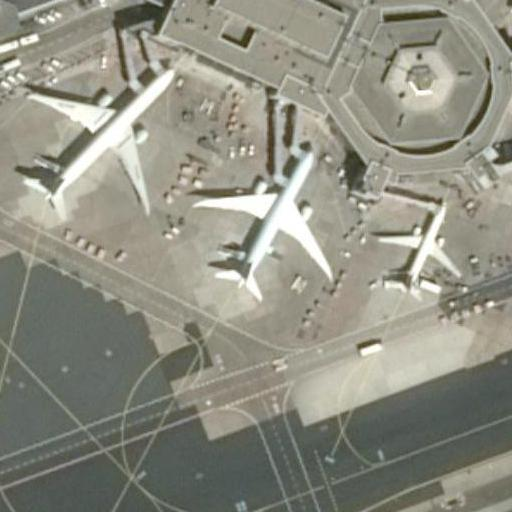Aircraft: (10, 44, 186, 223), (191, 137, 340, 304), (369, 191, 464, 304), (490, 0, 512, 21)
